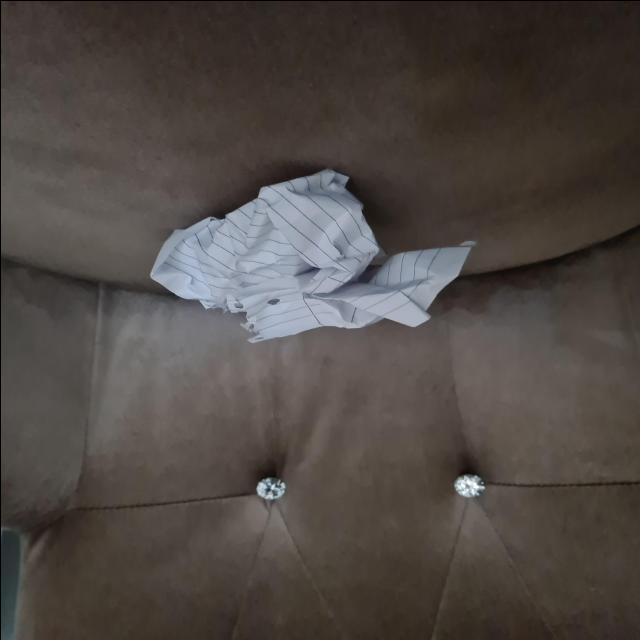kertas: (135, 166, 475, 346)
